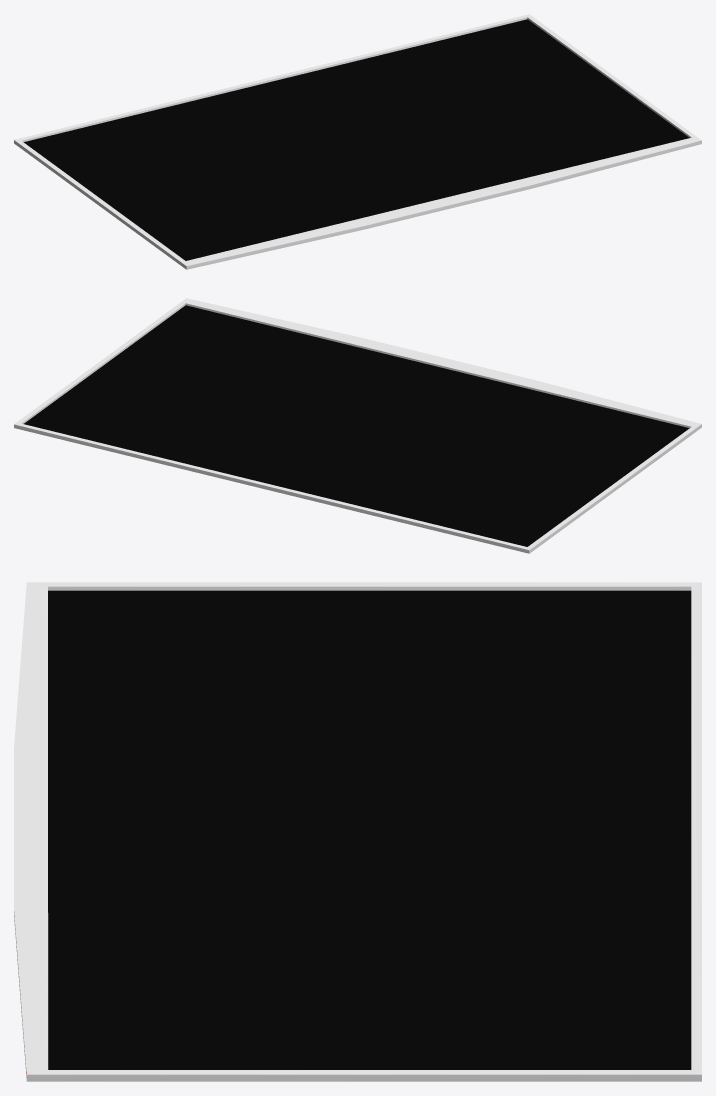
The picture shows the model from 3 angles, top to bottom: view 1: azimuth 30°, elevation 25°; view 2: azimuth 150°, elevation 25°; view 3: azimuth 270°, elevation 25°; orthographic projection. The views are drawn at different scales.
Parts seen in each view (by area): view 1: tv; view 2: tv; view 3: tv.
Boxes of the visible parts, x1,y1,x2,y2 form: tv: (14,14,701,269); tv: (14,298,701,553); tv: (14,582,701,1081).
Size of the model in its own units: 1.35 by 0.1004 by 0.7989.
5 materials, 3 textured.
